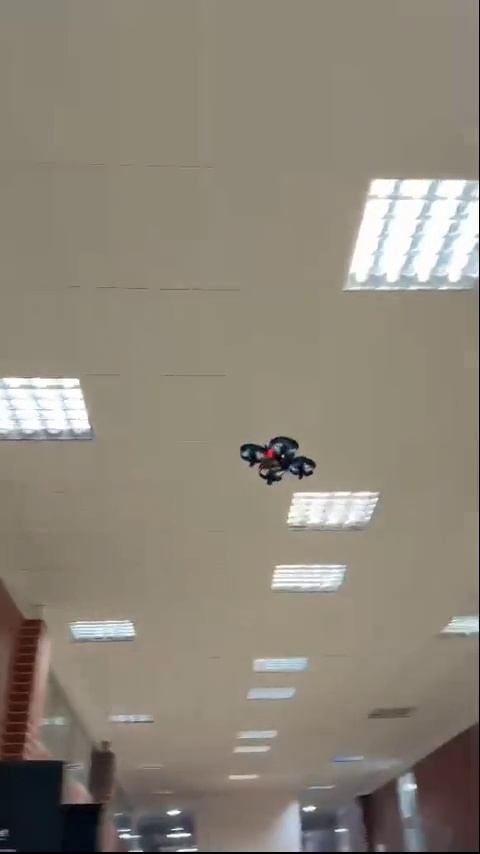drone: (242, 433, 313, 488)
